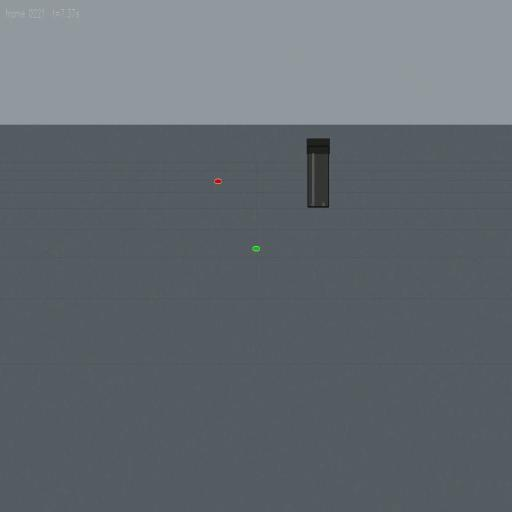bin: (306, 137, 330, 209)
